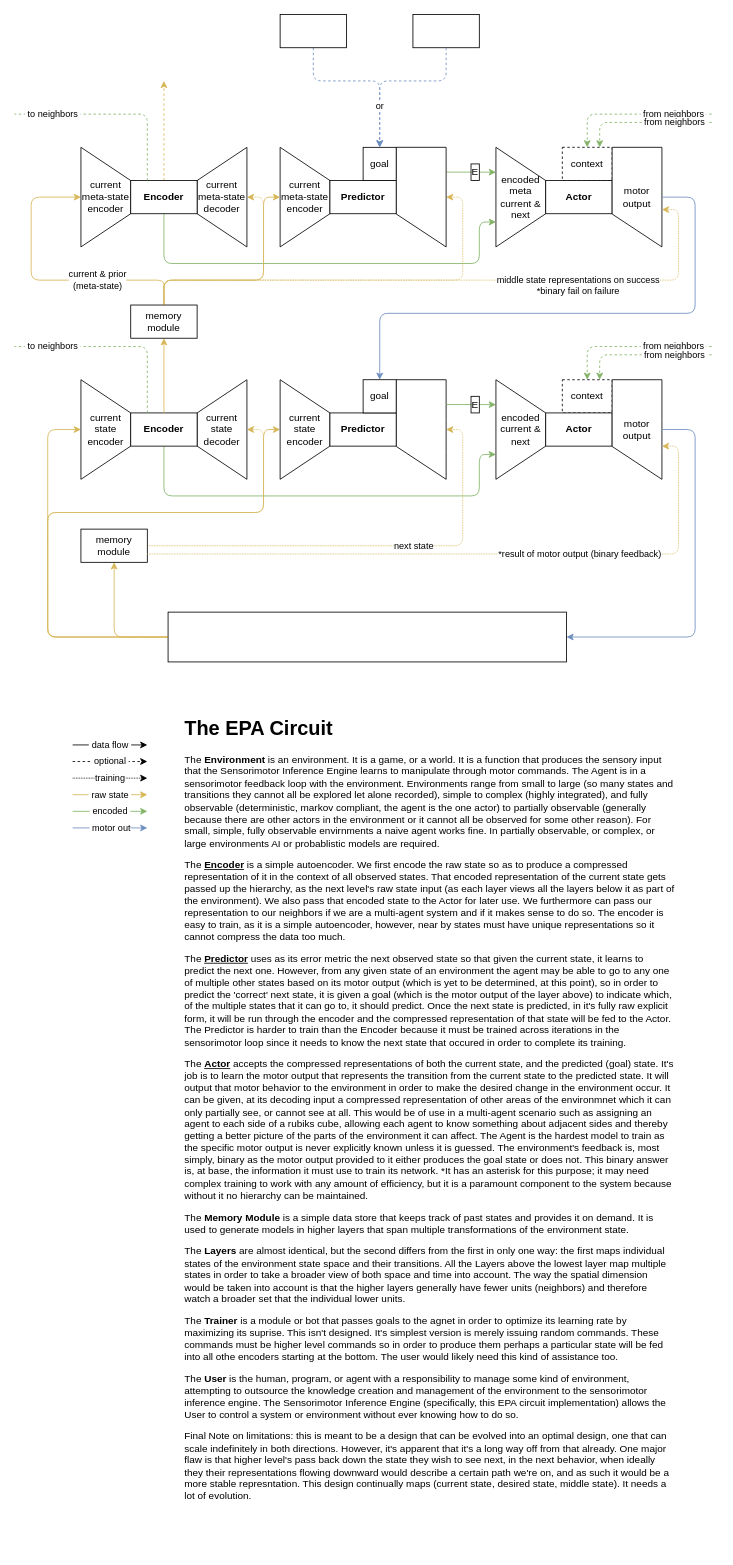
This 733x1565 diagram has some shape labels left out. Each missing label, with the box of its shape:
Environment: (167, 611, 566, 662)
next meta-state decoder: (395, 146, 446, 247)
next state decoder: (395, 379, 446, 479)
Trainer: (279, 14, 347, 48)
User: (412, 14, 479, 48)
